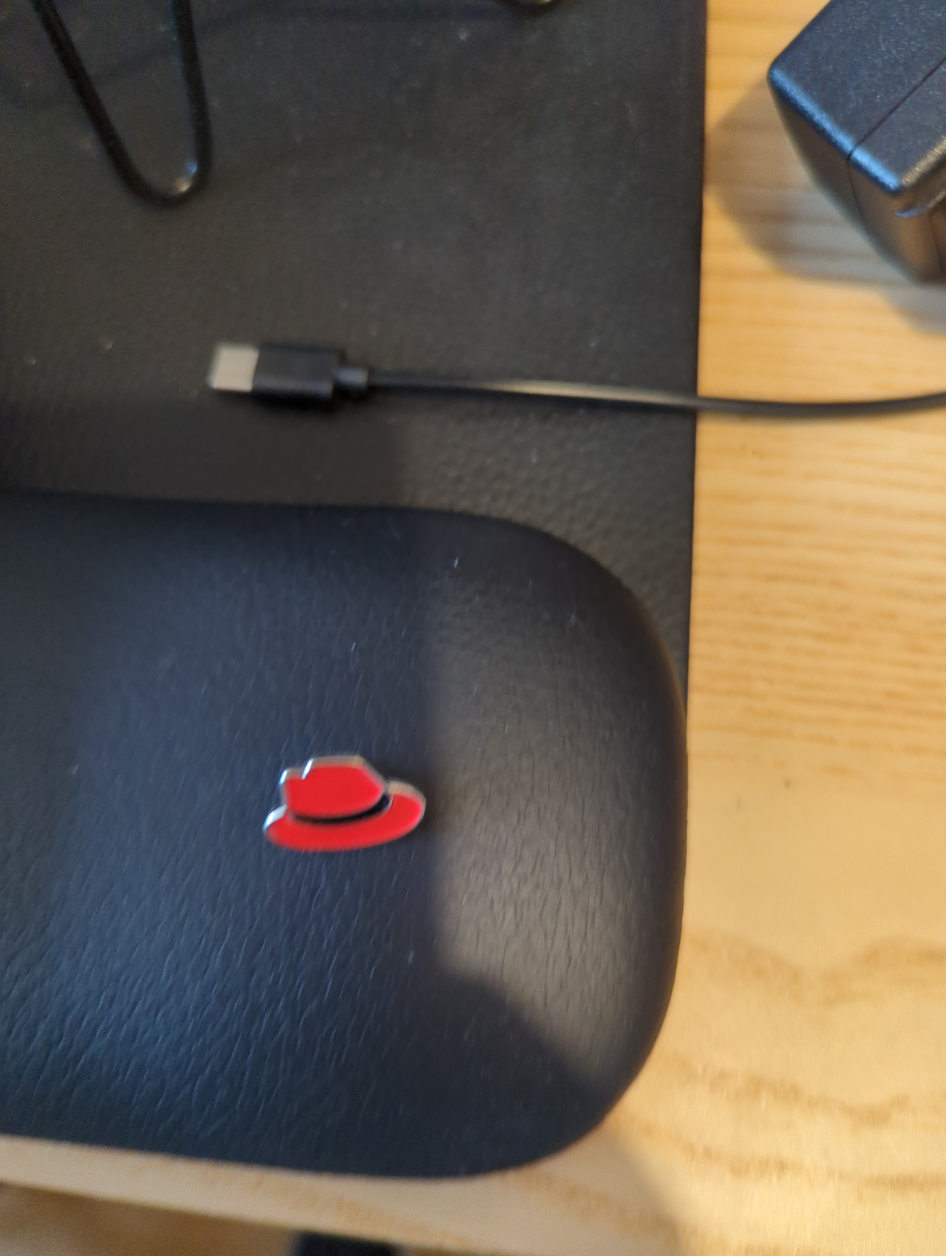Red-Hat: (185, 703, 539, 921)
